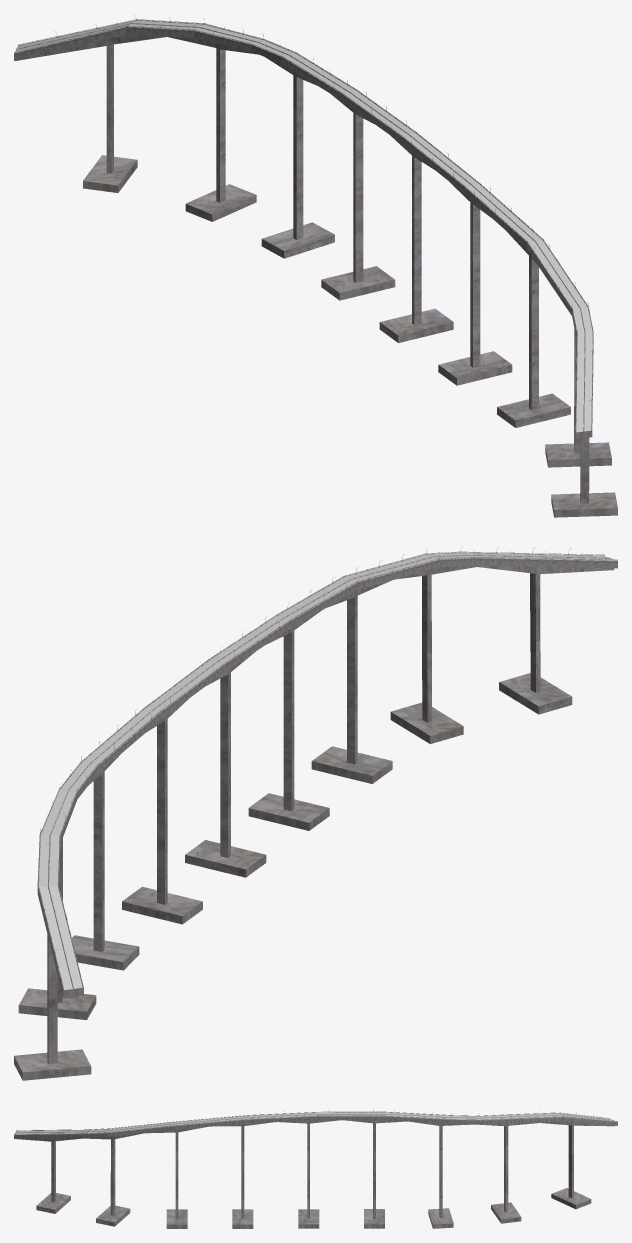
Rendered from ThirdBridge.fbx.
3 renders of one model, top to bottom at view 1: azimuth 30°, elevation 25°; view 2: azimuth 150°, elevation 25°; view 3: azimuth 270°, elevation 25°, orthographic. The views are drawn at different scales.
Visible parts, largest first — view 1: Foundation.003, Base, GuardRail; view 2: Foundation.003, Base, GuardRail; view 3: Foundation.003, Base, GuardRail.
Boxes of the visible parts, x1=… form: Foundation.003: x1=16, y1=34, x2=617, y2=517; Base: x1=14, y1=20, x2=593, y2=438; GuardRail: x1=14, y1=19, x2=593, y2=430; Foundation.003: x1=14, y1=565, x2=614, y2=1080; Base: x1=37, y1=552, x2=617, y2=998; GuardRail: x1=38, y1=551, x2=617, y2=988; Foundation.003: x1=16, y1=1120, x2=614, y2=1228; Base: x1=14, y1=1112, x2=617, y2=1138; GuardRail: x1=14, y1=1111, x2=617, y2=1134.
Size of the model in its own units: 2298 by 2599 by 12875.
